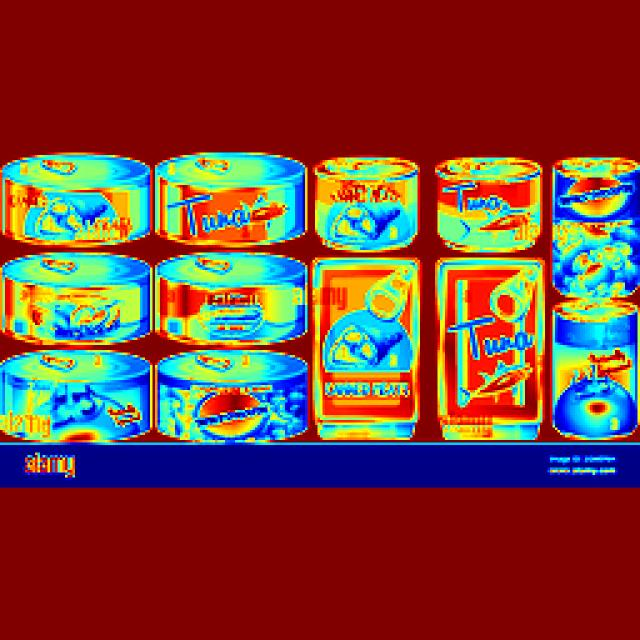Aluminium Food Cans: (301, 252, 411, 430), (151, 137, 312, 253), (434, 254, 540, 429), (0, 140, 150, 258), (2, 346, 152, 451), (544, 294, 639, 452), (5, 253, 152, 353), (300, 146, 418, 257), (160, 251, 296, 347), (164, 346, 301, 440), (418, 152, 536, 260), (544, 154, 630, 298)
